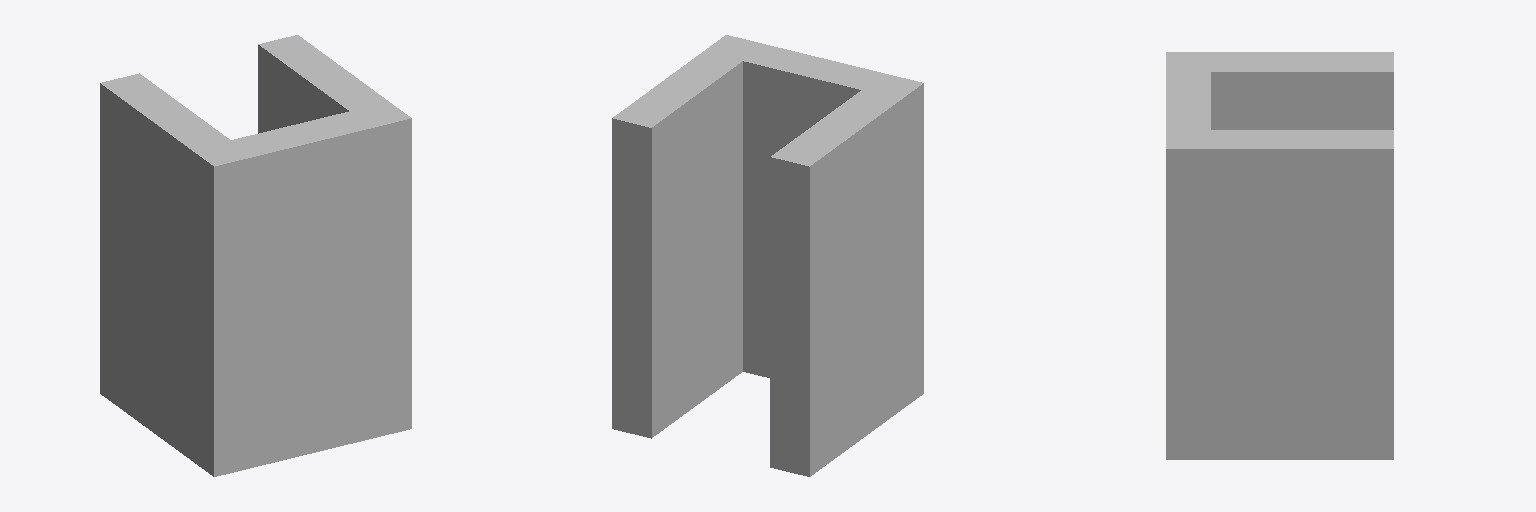
File: mur trois.obj
The picture shows the model from 3 angles: view 1: azimuth 30°, elevation 25°; view 2: azimuth 150°, elevation 25°; view 3: azimuth 270°, elevation 25°; orthographic projection.
Parts seen in each view (by area): view 1: Cube; view 2: Cube; view 3: Cube.
Boxes of the visible parts, box(x1,y1,x2,y2) form: Cube: box(100, 35, 411, 476); Cube: box(612, 35, 923, 476); Cube: box(1166, 52, 1393, 459).
Bounding box in the file's own units: 2 × 3 × 2.